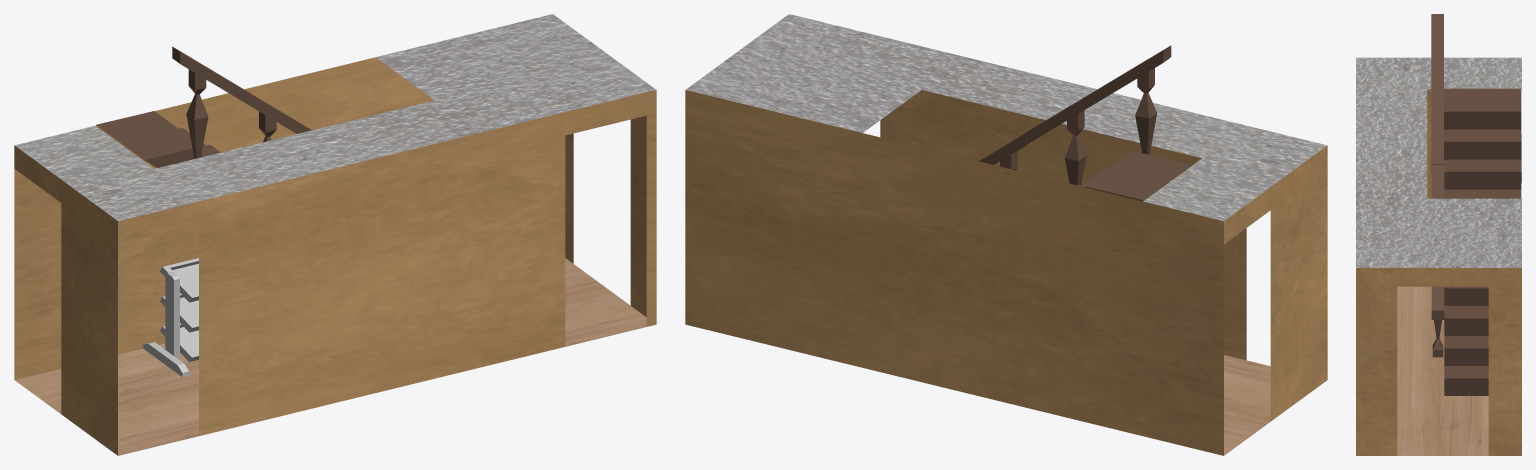
Rendered from hall0.2.5.fbx.
3 views of the same model, side by side, from view 1: azimuth 30°, elevation 25°; view 2: azimuth 150°, elevation 25°; view 3: azimuth 270°, elevation 25° (orthographic). The views are drawn at different scales.
Parts seen in each view (by area): view 1: Cube, Stairs_fence.001, Stand; view 2: Cube, Stairs_fence.001, Stairs_fence; view 3: Cube, Stairs_fence.001, Stairs_fence.
Boxes of the visible parts, box(x1,y1,x2,y2) form: Cube: box(14, 14, 656, 455); Stairs_fence.001: box(96, 46, 311, 167); Stand: box(143, 258, 198, 377); Cube: box(685, 14, 1327, 455); Stairs_fence.001: box(1022, 45, 1190, 200); Stairs_fence: box(979, 134, 1027, 170); Cube: box(1356, 57, 1521, 455); Stairs_fence.001: box(1431, 14, 1521, 198); Stairs_fence: box(1431, 161, 1488, 395).
Bounding box in the file's own units: 3000 × 1825 × 1000.
